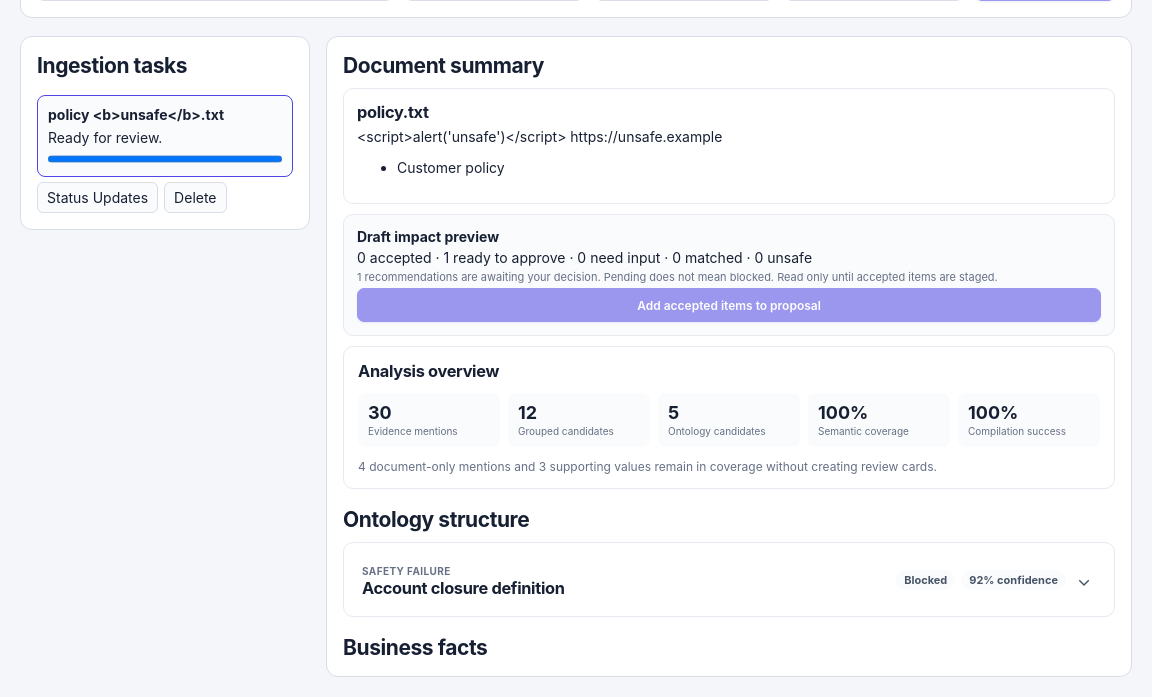
Test: document ingestion review workspace › does not offer approval when a safety failure blocks an exact change
The width and height of the screenshot is (1152, 697).
(page scrolled)
Click the heading named "Account closure definition recommendation details" at [406, 571], box [362, 565, 1091, 598]
(page scrolled)
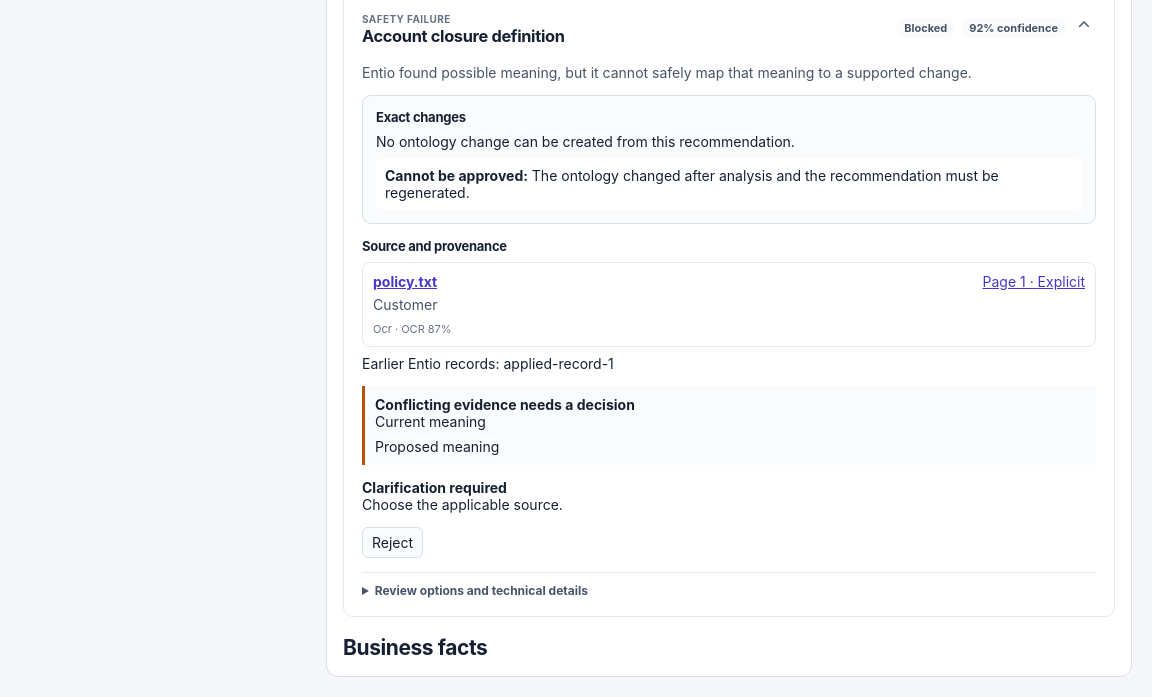
Expected: the element named "Exact proposed changes" shows "No ontology change can be created", [376, 133, 795, 150]
Expected: the element named "Exact proposed changes" shows "The ontology changed after analysis", [385, 167, 999, 201]
Expected: the button "Reject" is shown, [362, 527, 423, 558]
